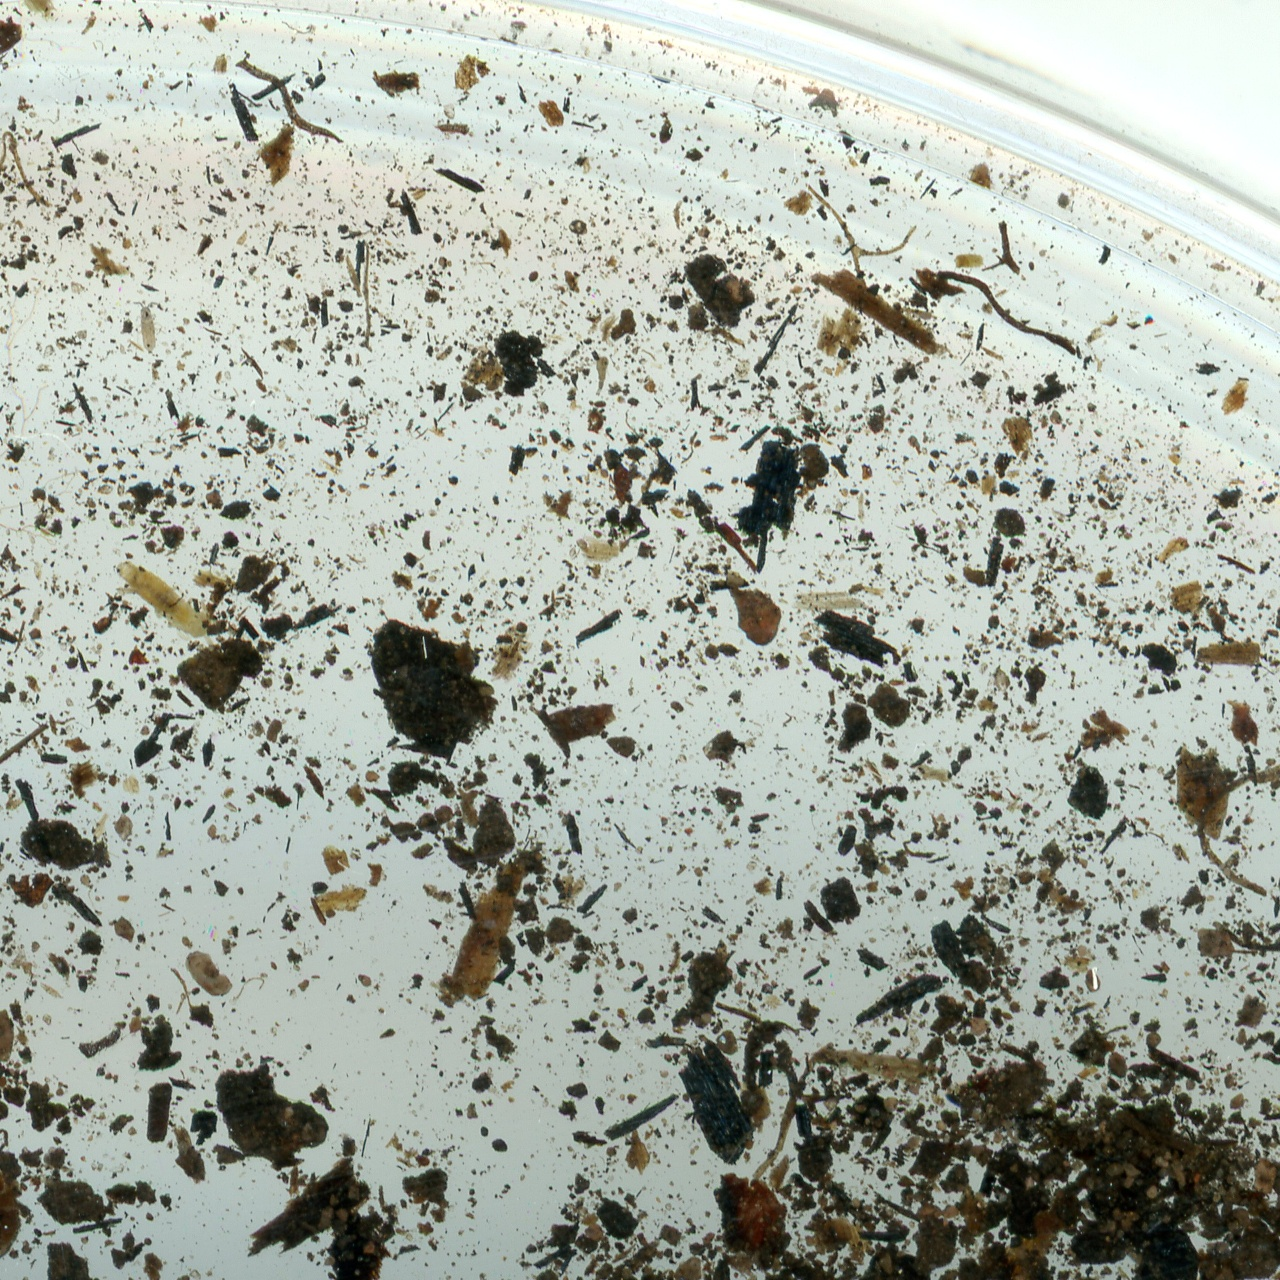arthropod: (129, 294, 168, 358), (606, 463, 633, 510)
